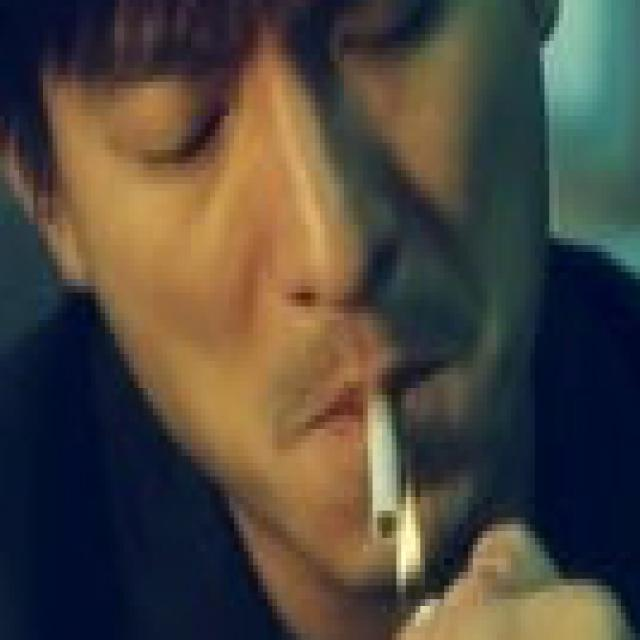smoking: (368, 386, 401, 541)
